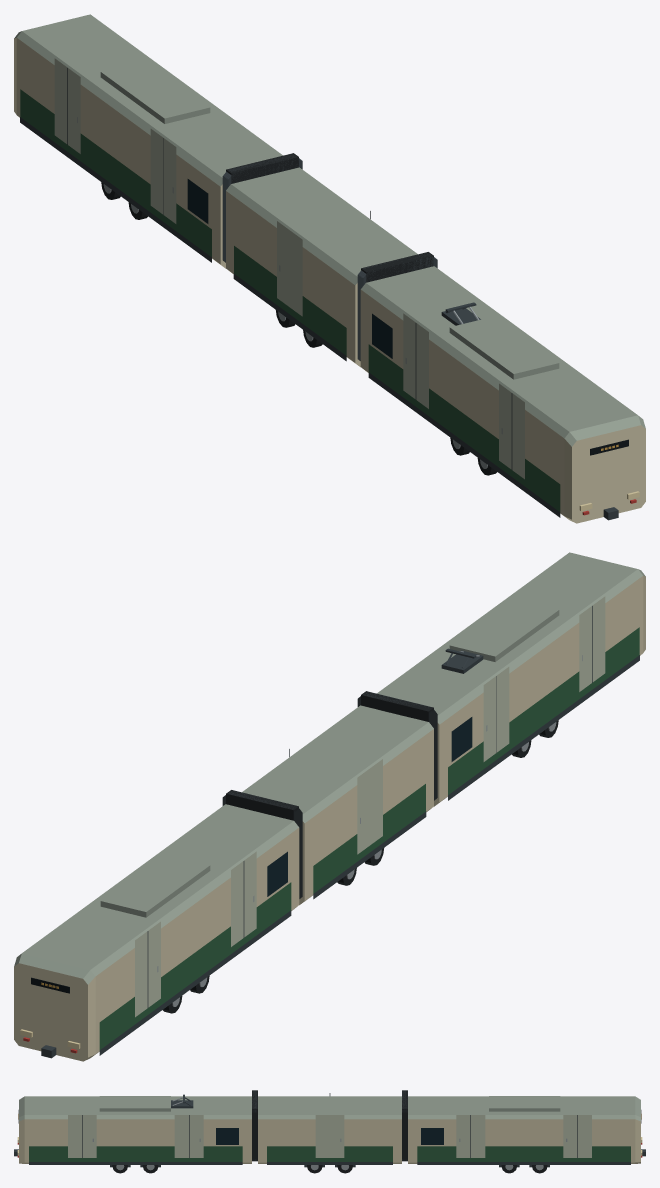
File: tram-srs-ktnf6.glb
3 views of the same model, one above another, from view 1: azimuth 30°, elevation 25°; view 2: azimuth 150°, elevation 25°; view 3: azimuth 270°, elevation 25° (orthographic). The views are drawn at different scales.
Visible parts, largest first — view 1: tram-srs-ktnf6.segment-01.005, tram-srs-ktnf6.segment-03.005, tram-srs-ktnf6.segment-02.005; view 2: tram-srs-ktnf6.segment-03.005, tram-srs-ktnf6.segment-01.005, tram-srs-ktnf6.segment-02.005; view 3: tram-srs-ktnf6.segment-01.005, tram-srs-ktnf6.segment-03.005, tram-srs-ktnf6.segment-02.005.
Part boxes in pixels (box(x1,y1,x2,y2)): tram-srs-ktnf6.segment-01.005: box(357, 252, 645, 523); tram-srs-ktnf6.segment-03.005: box(14, 14, 282, 268); tram-srs-ktnf6.segment-02.005: box(222, 153, 417, 366); tram-srs-ktnf6.segment-03.005: box(14, 804, 299, 1061); tram-srs-ktnf6.segment-01.005: box(357, 552, 645, 806); tram-srs-ktnf6.segment-02.005: box(222, 705, 433, 904); tram-srs-ktnf6.segment-01.005: box(14, 1090, 257, 1173); tram-srs-ktnf6.segment-03.005: box(408, 1096, 645, 1173); tram-srs-ktnf6.segment-02.005: box(258, 1090, 407, 1173).
Bounding box in the file's own units: 2.25 × 3.15 × 27.44.
